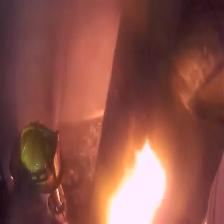fire: (108, 138, 166, 224)
